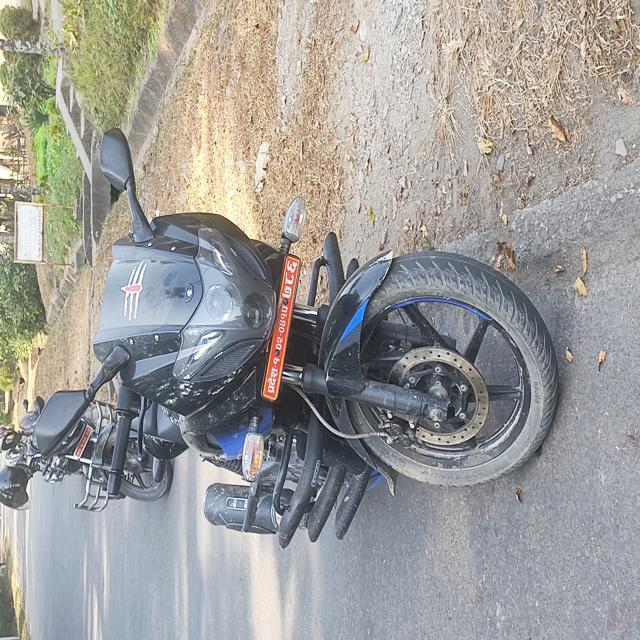license_plate: (235, 228, 303, 408)
